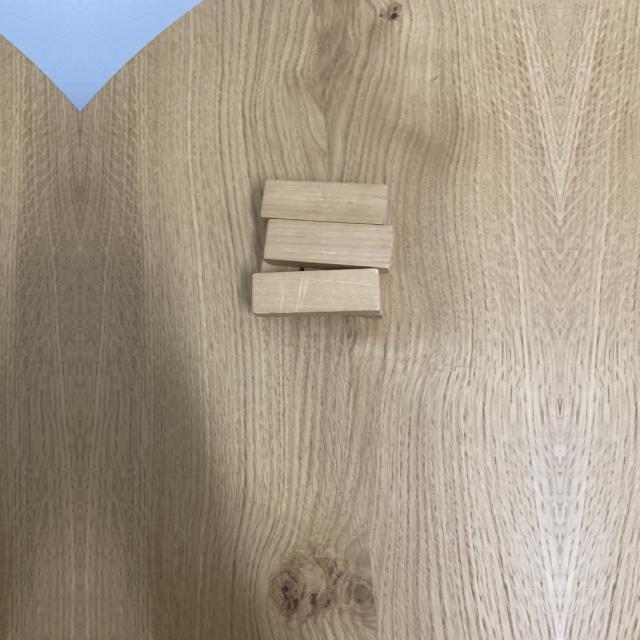jenga: (261, 222, 395, 266), (249, 270, 379, 314), (260, 180, 388, 220)
